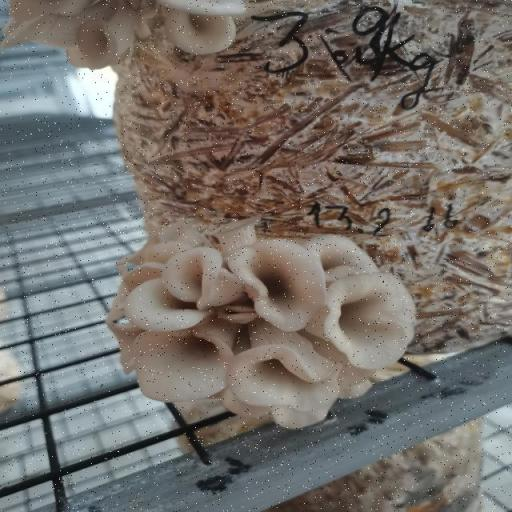White Oyster Mushroom: (103, 217, 417, 435), (1, 0, 248, 59)
